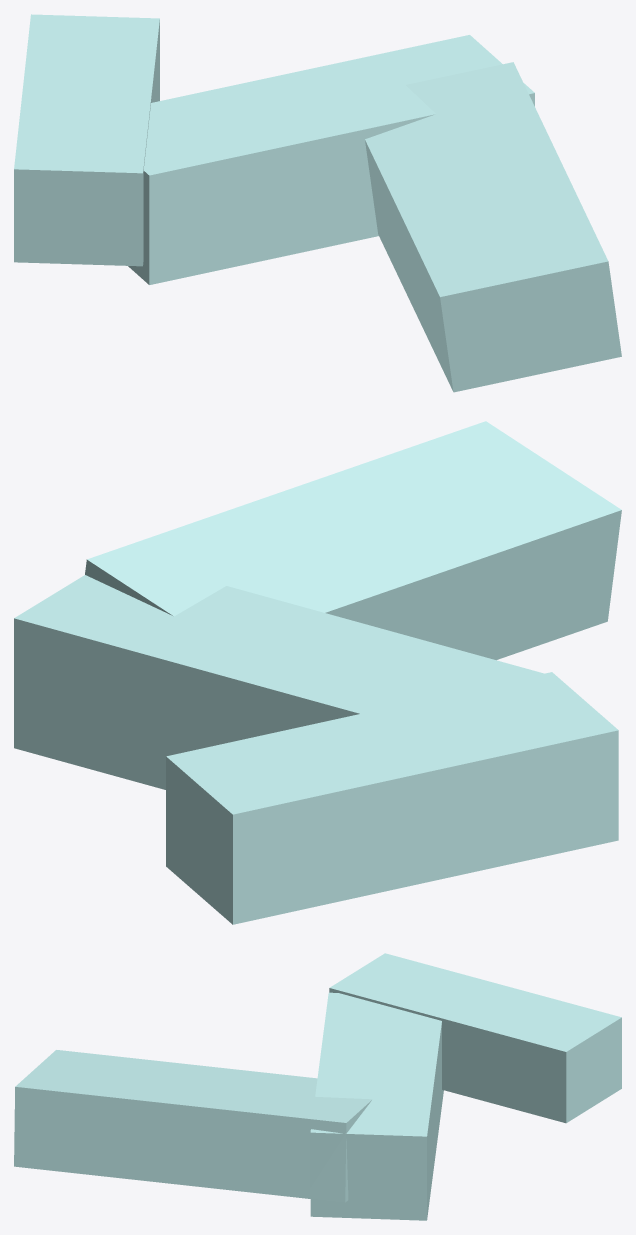
File: Rune6NoStone.fbx
The picture shows the model from 3 angles, top to bottom: view 1: azimuth 30°, elevation 25°; view 2: azimuth 150°, elevation 25°; view 3: azimuth 270°, elevation 25°; orthographic projection. The views are drawn at different scales.
Visible parts, largest first — view 1: Cube, Cube.001, Cube.002; view 2: Cube.002, Cube, Cube.001; view 3: Cube, Cube.002, Cube.001.
Boxes of the visible parts, <box> form: Cube: <box>365,62,621,392</box>; Cube.001: <box>128,35,534,284</box>; Cube.002: <box>14,14,159,266</box>; Cube.002: <box>166,672,618,924</box>; Cube: <box>85,421,621,660</box>; Cube.001: <box>14,575,543,789</box>; Cube: <box>14,1050,372,1202</box>; Cube.002: <box>329,953,621,1123</box>; Cube.001: <box>310,992,443,1220</box>.
Bounding box in the file's own units: 132 × 33.8 × 186.
